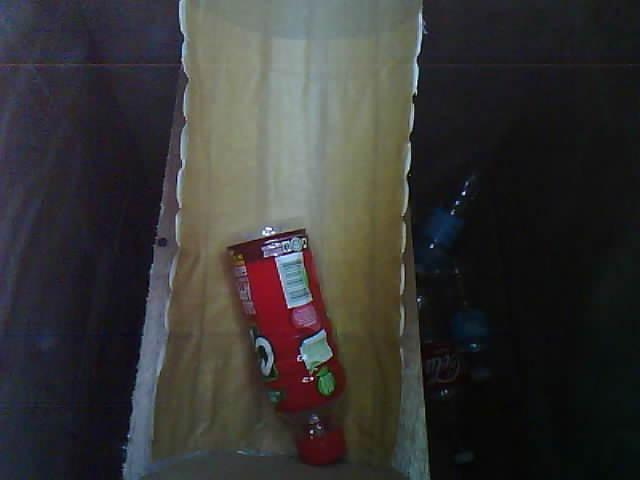small_bottle: (217, 210, 364, 480)
